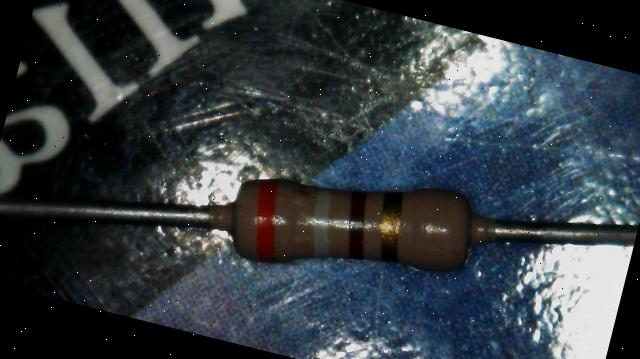brown: (336, 189, 379, 261)
gold: (368, 189, 414, 263)
orange: (242, 176, 292, 262)
resistor: (210, 167, 490, 281)
white: (301, 188, 344, 260)
